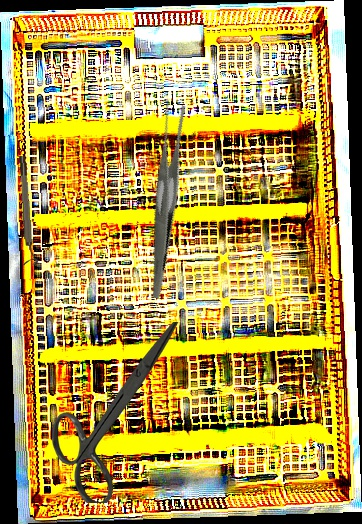Dressing Forceps: (92, 98, 235, 300)
Fixation Ring: (17, 155, 38, 266)
Iris Scissors: (51, 322, 180, 503)
